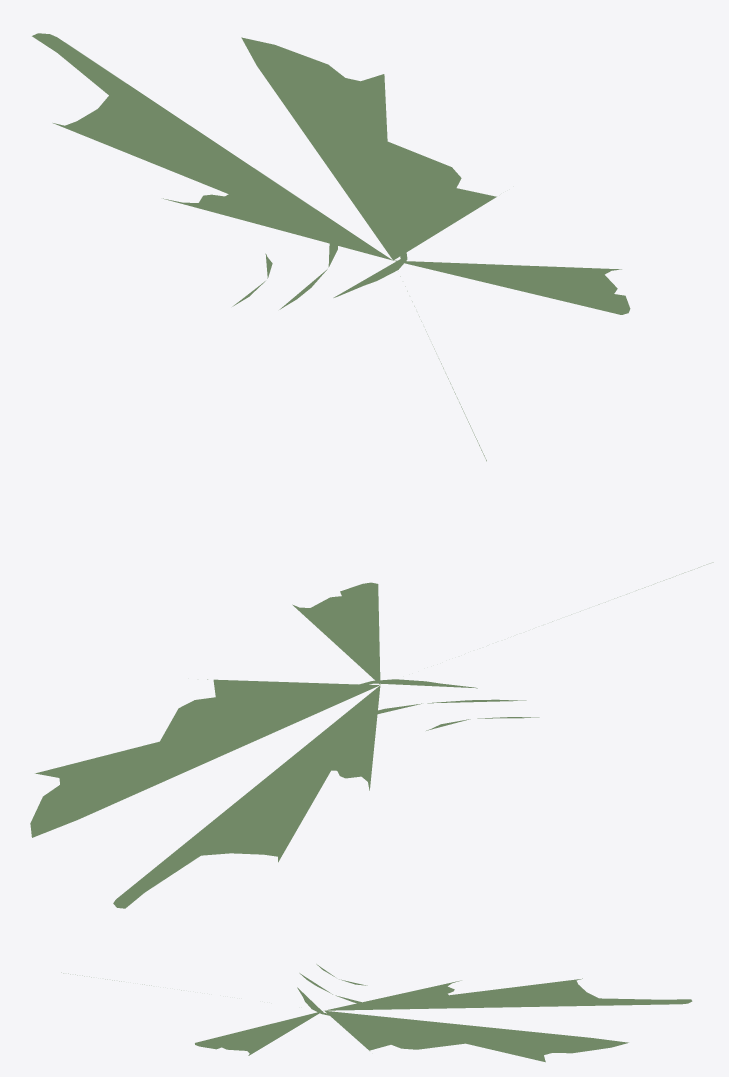
File: c_1646_17819_parks.glb
3 views of the same model, one above another, from view 1: azimuth 30°, elevation 25°; view 2: azimuth 150°, elevation 25°; view 3: azimuth 270°, elevation 25° (orthographic). The views are drawn at different scales.
Parts seen in each view (by area): view 1: geometry_0; view 2: geometry_0; view 3: geometry_0.
Boxes of the visible parts, box(x1,y1,x2,y2) form: geometry_0: box(32, 33, 630, 461); geometry_0: box(30, 562, 713, 908); geometry_0: box(61, 964, 692, 1062).
Size of the model in its own units: 557 by 0 by 1444.
